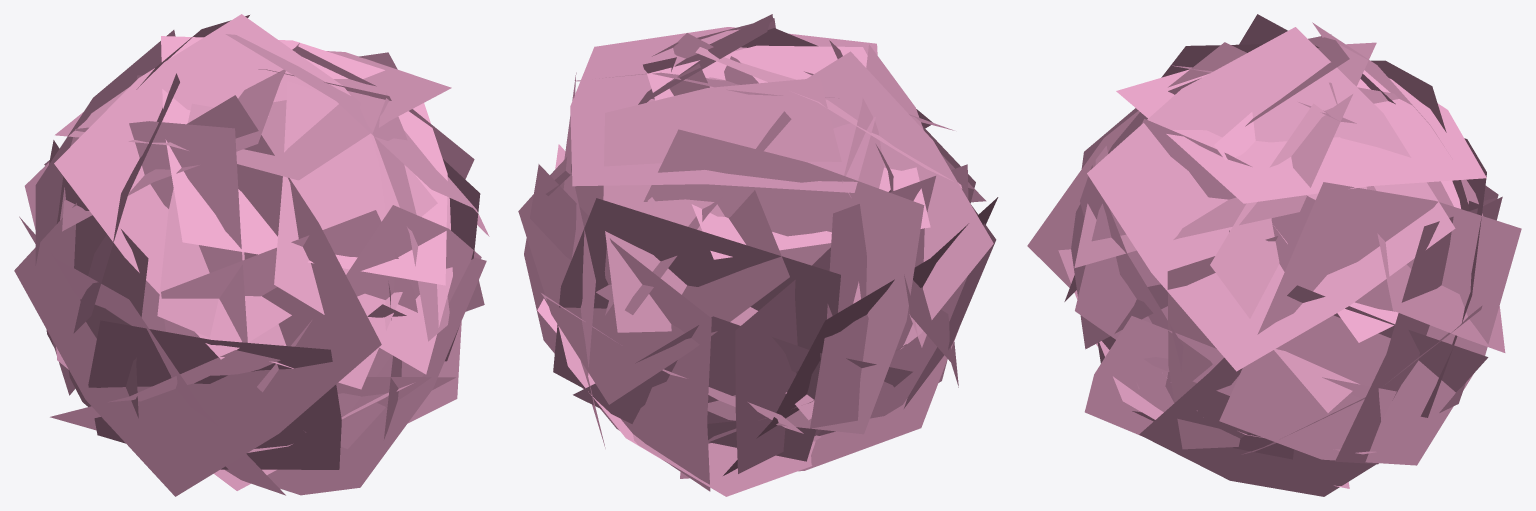
File: bush2.glb
3 renders of one model, left to right at view 1: azimuth 30°, elevation 25°; view 2: azimuth 150°, elevation 25°; view 3: azimuth 270°, elevation 25°, orthographic. The views are drawn at different scales.
Parts seen in each view (by area): view 1: leaves; view 2: leaves; view 3: leaves.
Boxes of the visible parts, x1,y1,x2,y2 form: leaves: [14, 14, 489, 496]; leaves: [518, 14, 998, 496]; leaves: [1027, 14, 1521, 496].
Bounding box in the file's own units: 3.12 × 3.27 × 3.3.
